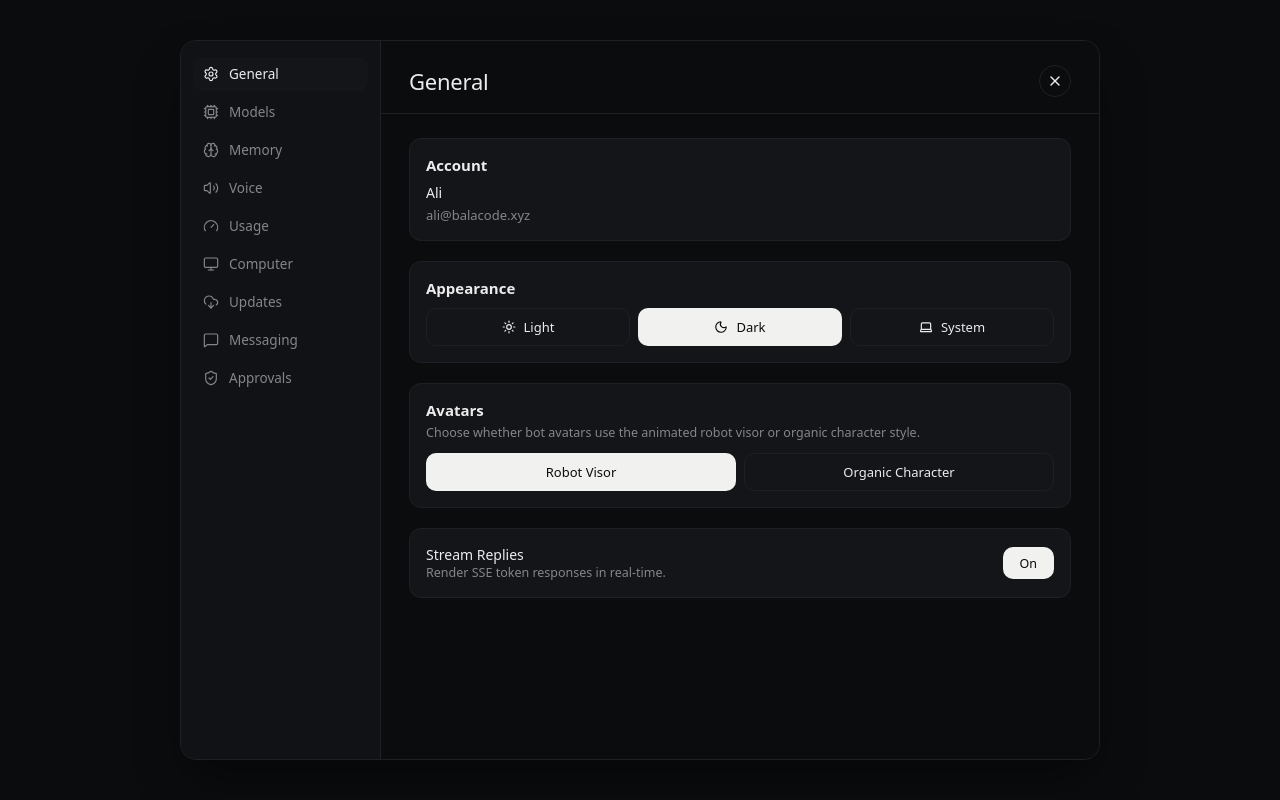
Test case: MessagingSettings panel mount › mounts the MessagingSettings panel when messaging tab is clicked
Click the button with test id "settings-nav-messaging" at [280, 340], box [193, 323, 368, 357]
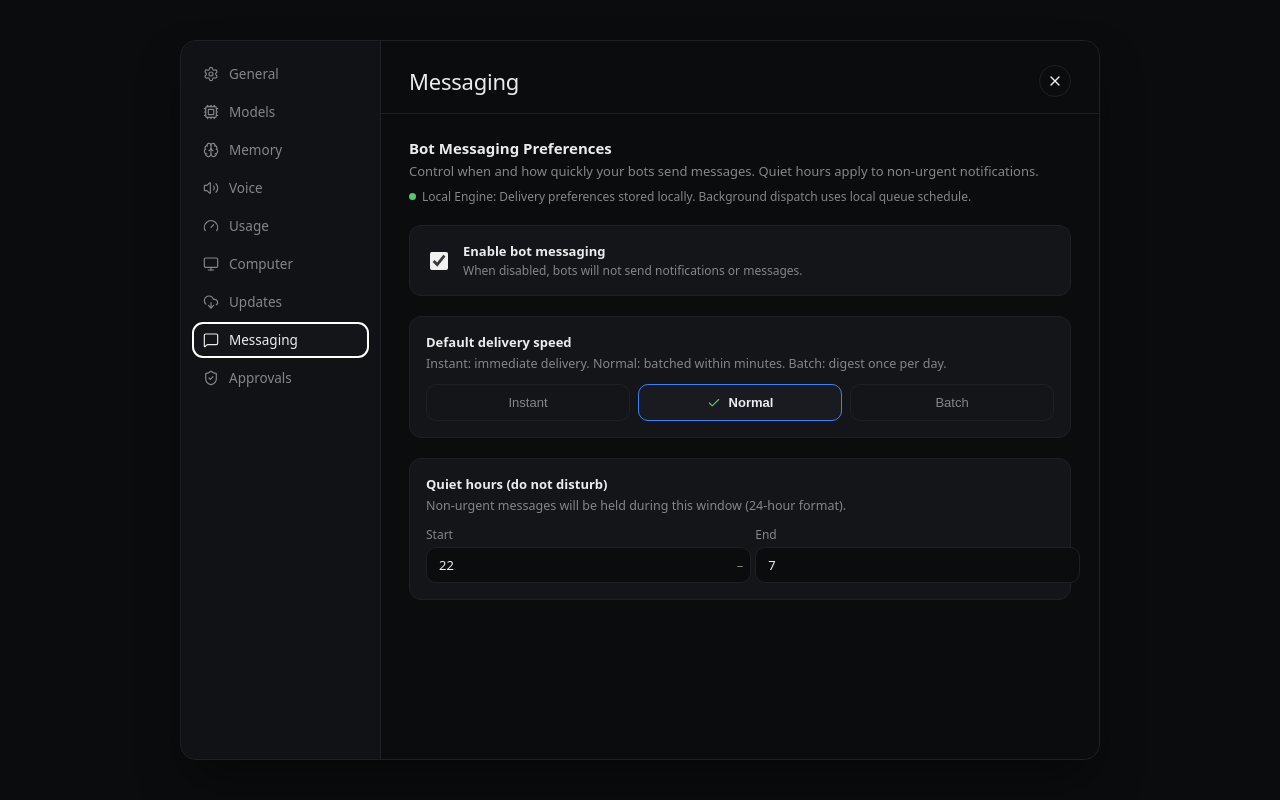
Expected: the element with test id "messaging-settings" is shown, [409, 138, 1071, 600]
Expected: the heading "Bot Messaging Preferences" is shown, [409, 138, 612, 158]
